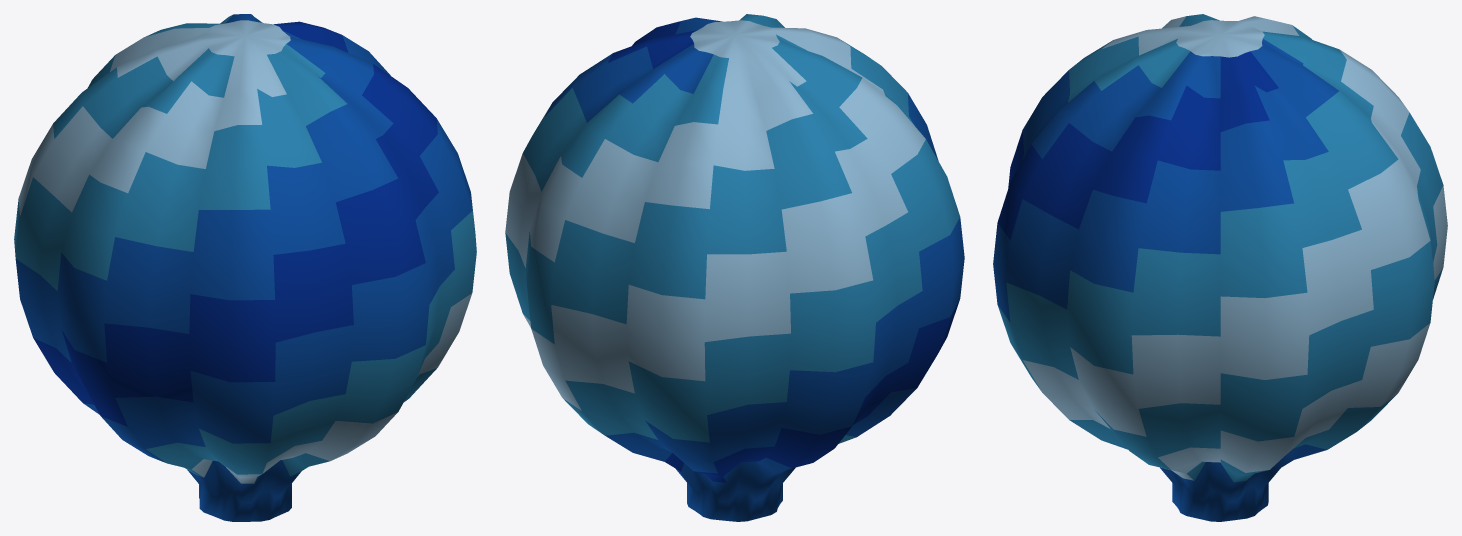
The model's file is envelope.glb.
The picture shows the model from 3 angles, left to right: view 1: azimuth 30°, elevation 25°; view 2: azimuth 150°, elevation 25°; view 3: azimuth 270°, elevation 25°; orthographic projection.
Parts seen in each view (by area): view 1: Sphere; view 2: Sphere; view 3: Sphere.
Boxes of the visible parts, left/top/right/bottom form: Sphere: left=14, top=14, right=476, bottom=521; Sphere: left=505, top=14, right=964, bottom=521; Sphere: left=993, top=14, right=1447, bottom=521.
Bounding box in the file's own units: 20.97 × 23.78 × 20.97.
